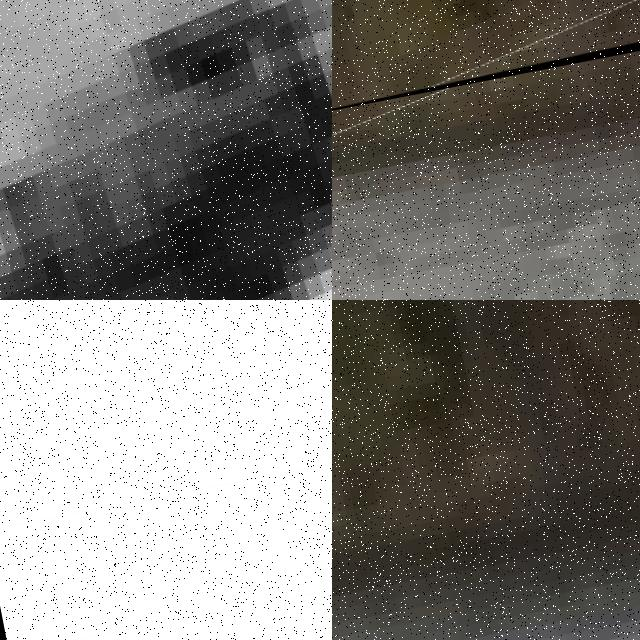drone: (0, 0, 332, 300), (332, 0, 640, 123)
